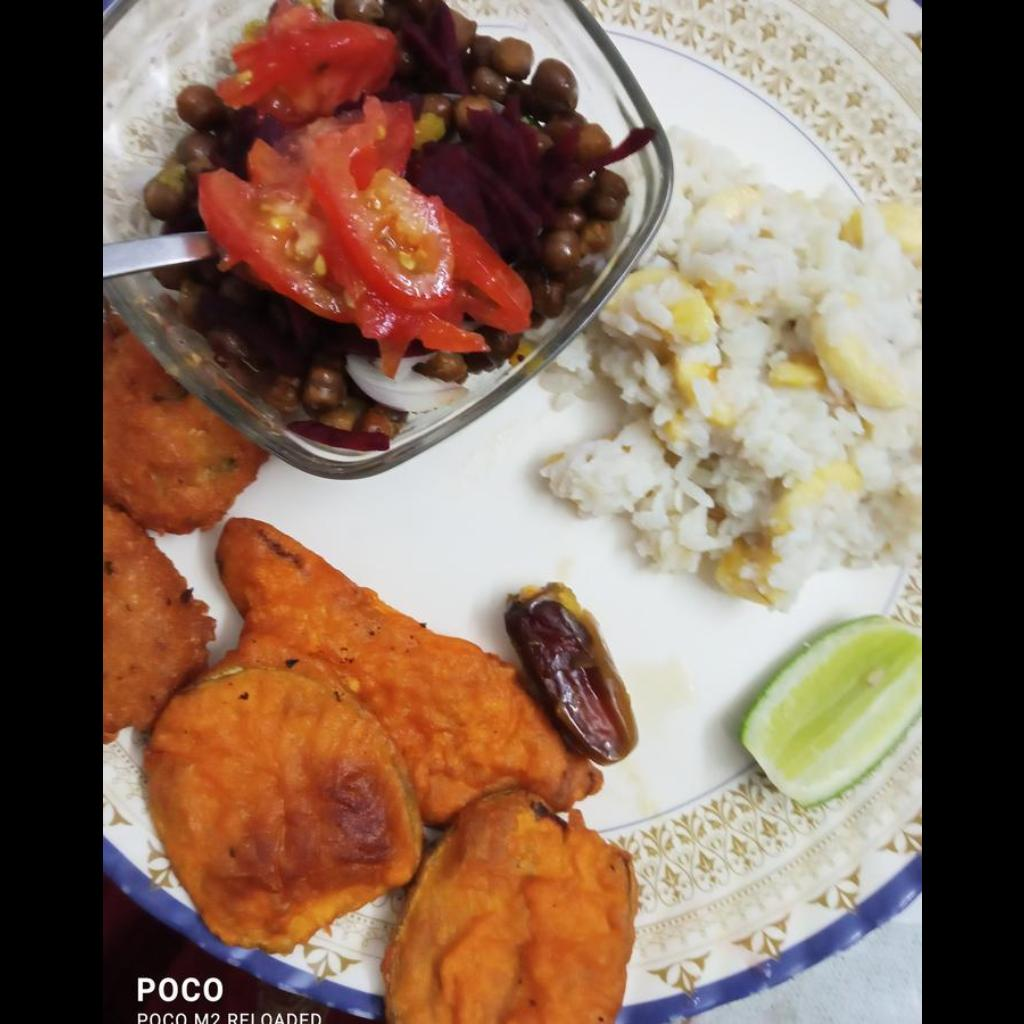beguni: (228, 528, 591, 796)
chola: (143, 4, 638, 445)
chop-alu: (137, 679, 634, 1018)
dates: (507, 587, 641, 758)
lemon: (742, 611, 920, 812)
piyaju: (102, 321, 264, 743)
rice: (539, 130, 920, 608)
